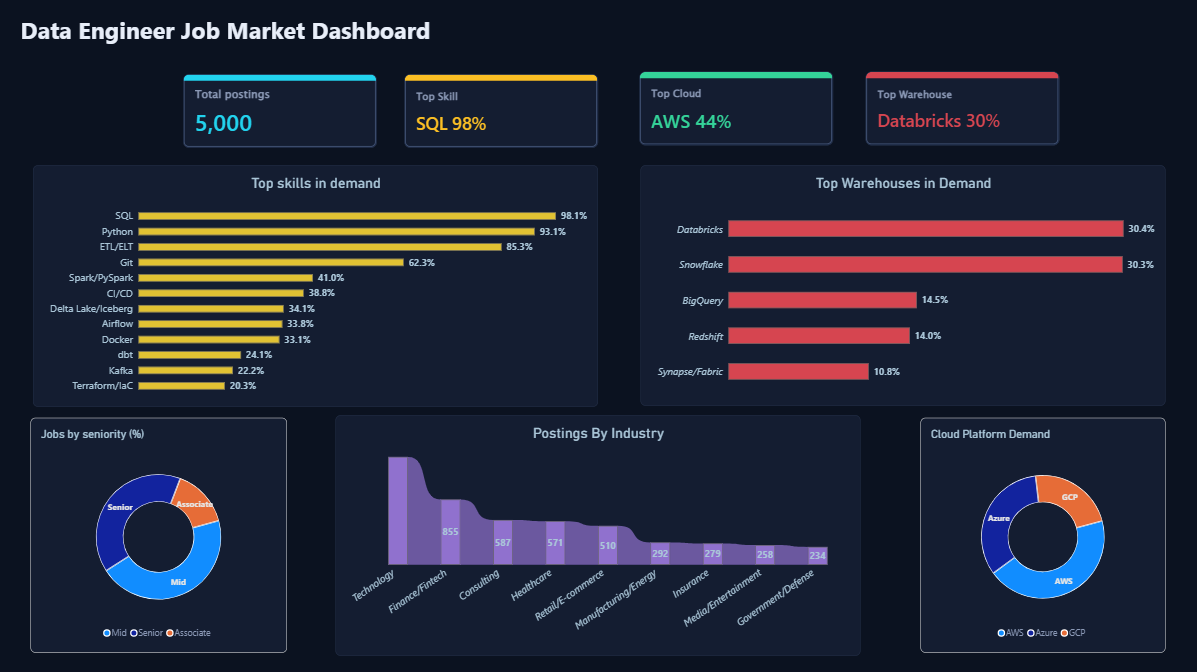

What the dashboard file says about the page in this screenshot:
{"tool":"powerbi","page":{"name":"Page 1","canvas":[1920,1080],"ordinal":0},"visuals":[{"type":"cardVisual","fields":{"Data":["Sum(public work_mode_mix.postings)"]},"box":[295.9,120.2,310.2,118.4],"z":0},{"type":"textbox","box":[36,24,689.8,151],"z":1000},{"type":"cardVisual","fields":{"Data":["public cloud_demand.Top Cloud"]},"box":[1025.6,116.2,310.2,118.4],"z":2000},{"type":"cardVisual","fields":{"Data":["public skills_in_demand.Top Skill"]},"box":[650.6,119.4,310.2,118.4],"z":3000},{"type":"cardVisual","fields":{"Data":["public warehouse_demand.Top Warehouse"]},"box":[1388.9,116.2,310.2,118.4],"z":5000},{"type":"clusteredBarChart","title":"Top skills in demand","fields":{"Category":["public skills_in_demand.skill_name"],"Y":["Max(public skills_in_demand.pct)"]},"box":[56,266,904,386],"z":6000},{"type":"clusteredBarChart","title":"Top Warehouses in Demand ","fields":{"Category":["public warehouse_demand (2).data_warehouse"],"Y":["Max(public warehouse_demand (2).pct)"]},"box":[1027.5,265,840,385],"z":7000},{"type":"donutChart","title":"Jobs by seniority (%)","fields":{"Category":["public salary_by_seniority.seniority"],"Y":["Sum(public salary_by_seniority.postings)"]},"box":[52,670,410,376],"z":8000},{"type":"donutChart","title":"Cloud Platform Demand","fields":{"Category":["public cloud_demand.cloud_platform"],"Y":["Max(public cloud_demand.postings)"]},"box":[1476,670,392,376],"z":9000},{"type":"ribbonChart","title":"Postings By Industry","fields":{"Category":["public industry_mix.industry"],"Y":["Max(public industry_mix.postings)"]},"box":[540,666,840,385],"z":10000}]}

Visuals, with their boxes in screenshot pixels (x1, y1, x2, y2), scaled from the page's 1920x1080 canvas onto the 1197x672 screenshot:
cardVisual - Sum(public work_mode_mix.postings): (184, 75, 378, 148)
textbox: (22, 15, 452, 109)
cardVisual - public cloud_demand.Top Cloud: (639, 72, 833, 146)
cardVisual - public skills_in_demand.Top Skill: (406, 74, 599, 148)
cardVisual - public warehouse_demand.Top Warehouse: (866, 72, 1059, 146)
"Top skills in demand" clusteredBarChart: (35, 166, 598, 406)
"Top Warehouses in Demand " clusteredBarChart: (641, 165, 1164, 404)
"Jobs by seniority (%)" donutChart: (32, 417, 288, 651)
"Cloud Platform Demand" donutChart: (920, 417, 1165, 651)
"Postings By Industry" ribbonChart: (337, 414, 860, 654)
